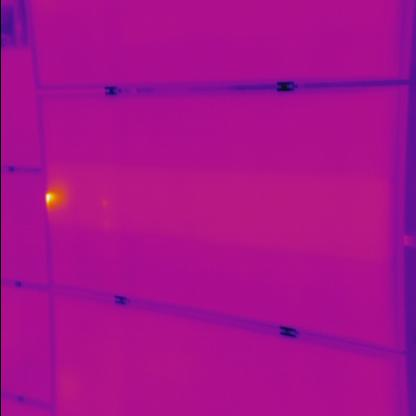hotspot: (40, 185, 60, 207)
